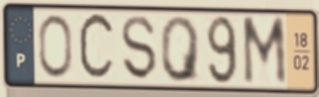9: (204, 13, 241, 88)
C: (76, 9, 118, 86)
M: (240, 14, 289, 89)
O: (36, 12, 75, 81)
Q: (158, 14, 203, 85)
S: (119, 14, 159, 83)
